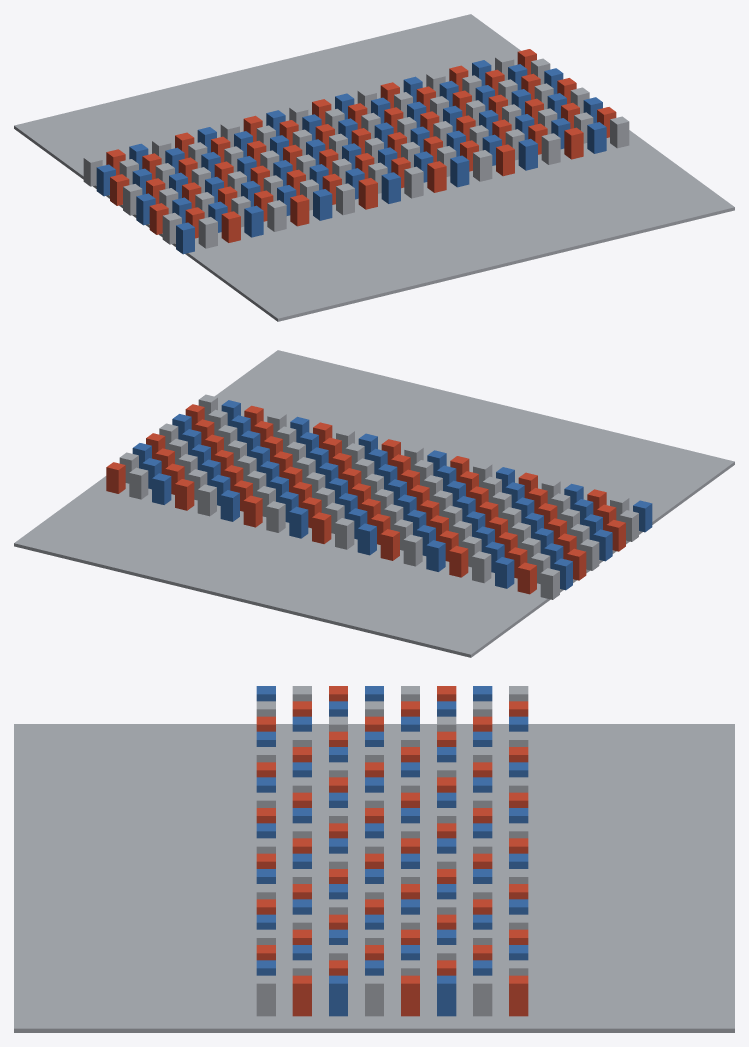
The model's file is B-street.glb.
The picture shows the model from 3 angles, top to bottom: view 1: azimuth 30°, elevation 25°; view 2: azimuth 150°, elevation 25°; view 3: azimuth 270°, elevation 25°; orthographic projection. The views are drawn at different scales.
Parts seen in each view (by area): view 1: box-0, box-144, box-146, box-147, box-153, box-143, box-145, box-150, box-151, box-152, box-154, box-158 (+9 smaller); view 2: box-0, box-4, box-7, box-14, box-1, box-3, box-5, box-6, box-8, box-12, box-13, box-15 (+9 smaller); view 3: box-0, box-20, box-40, box-60, box-140, box-160, box-80, box-100, box-120.
Boxes of the visible parts, bbox=[...] form: box-0: bbox=[14, 14, 734, 321]; box-144: bbox=[244, 205, 263, 237]; box-146: bbox=[290, 194, 309, 226]; box-147: bbox=[313, 189, 332, 220]; box-153: bbox=[450, 155, 469, 187]; box-143: bbox=[221, 211, 240, 242]; box-145: bbox=[267, 200, 286, 231]; box-150: bbox=[381, 172, 400, 203]; box-151: bbox=[404, 166, 423, 198]; box-152: bbox=[427, 161, 446, 192]; box-154: bbox=[473, 150, 492, 181]; box-158: bbox=[564, 127, 583, 159]; box-0: bbox=[14, 350, 734, 657]; box-4: bbox=[472, 551, 491, 583]; box-7: bbox=[403, 534, 422, 566]; box-14: bbox=[243, 495, 262, 527]; box-1: bbox=[540, 568, 559, 599]; box-3: bbox=[495, 557, 514, 588]; box-5: bbox=[449, 545, 468, 577]; box-6: bbox=[426, 540, 445, 571]; box-8: bbox=[380, 529, 399, 560]; box-12: bbox=[289, 506, 308, 538]; box-13: bbox=[266, 501, 285, 532]; box-15: bbox=[220, 490, 239, 521]; box-0: bbox=[14, 724, 734, 1032]; box-20: bbox=[509, 975, 528, 1016]; box-40: bbox=[473, 975, 492, 1016]; box-60: bbox=[437, 975, 456, 1016]; box-140: bbox=[292, 975, 311, 1016]; box-160: bbox=[256, 975, 275, 1016]; box-80: bbox=[401, 975, 419, 1016]; box-100: bbox=[365, 975, 383, 1016]; box-120: bbox=[329, 975, 347, 1016].
Bounding box in the file's own units: 30.4 × 1.75 × 30.
